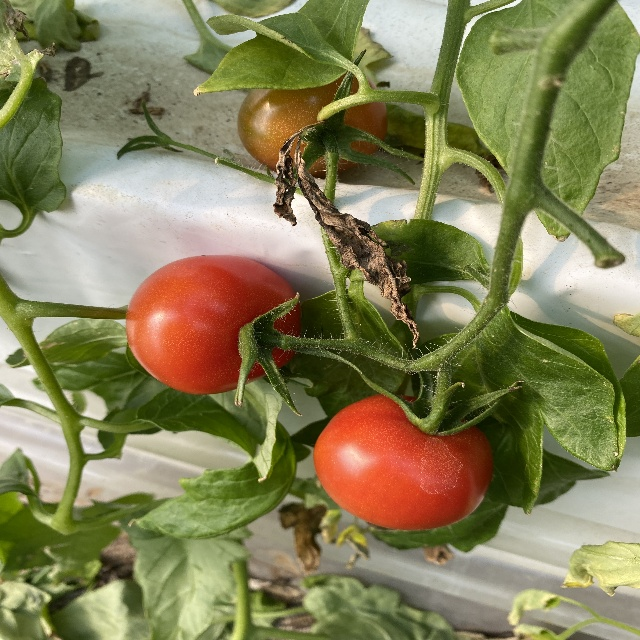l_fully_ripened: (313, 394, 493, 531), (126, 255, 302, 395)
l_half_ripened: (238, 70, 389, 177)
